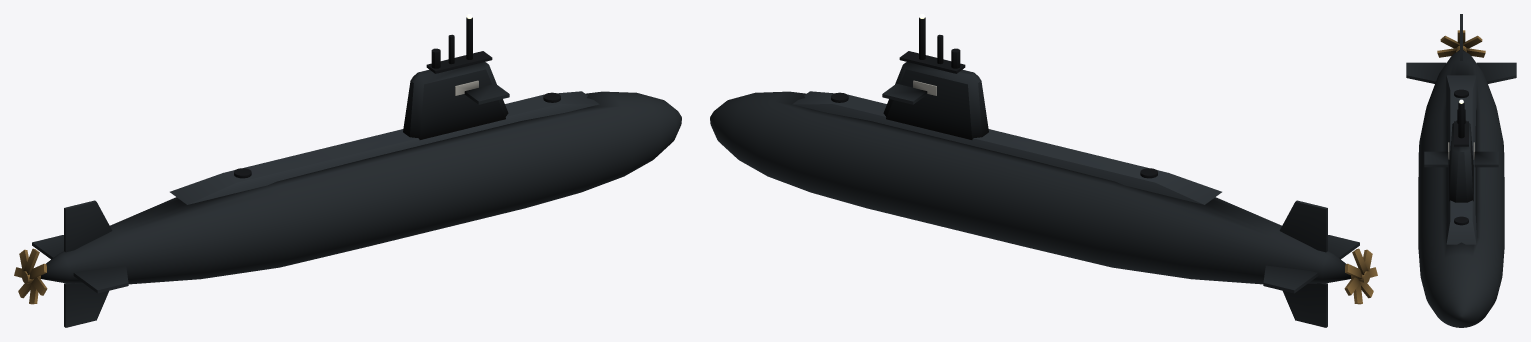
The model's file is submarine.glb.
3 renders of one model, left to right at view 1: azimuth 30°, elevation 25°; view 2: azimuth 150°, elevation 25°; view 3: azimuth 270°, elevation 25°, orthographic. The views are drawn at different scales.
Parts seen in each view (by area): view 1: submarine; view 2: submarine; view 3: submarine.
Part boxes in pixels (box(x1,y1,x2,y2)): submarine: box(14, 14, 681, 327); submarine: box(710, 14, 1377, 327); submarine: box(1406, 14, 1516, 327).
Bounding box in the file's own units: 2.55 × 0.795 × 0.44.
